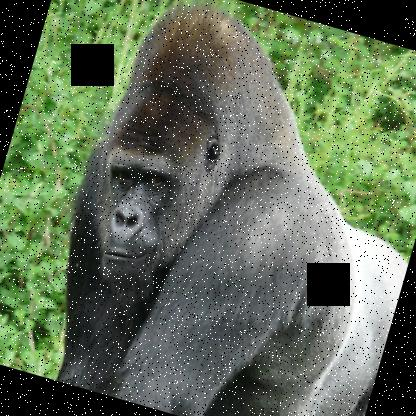Gorilla gorilla: (25, 0, 415, 415)
